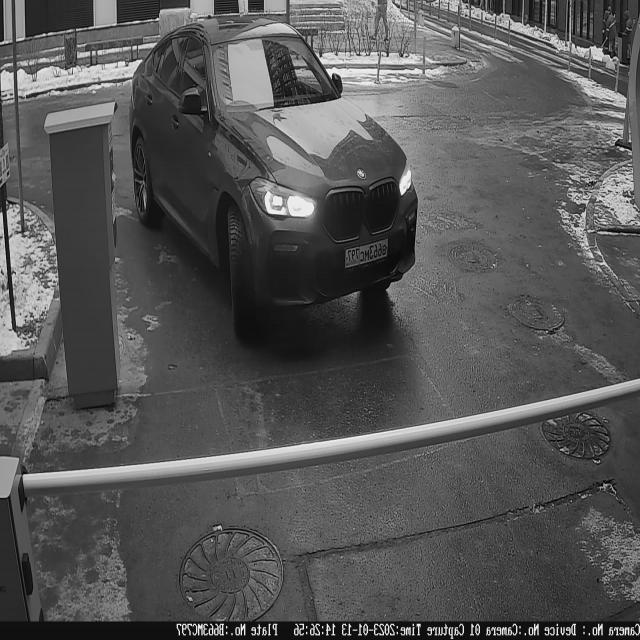car-plate-numbers: (344, 234, 393, 277)
